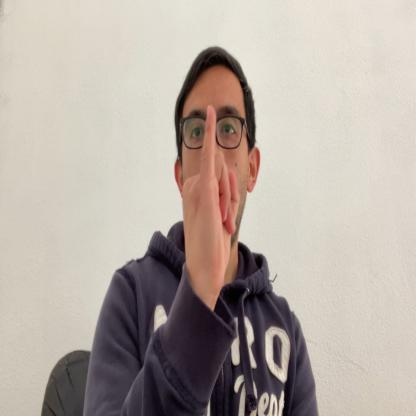I: (181, 105, 240, 289)
